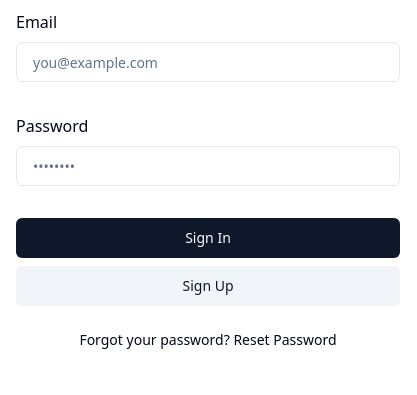
Test: LoginPageClient › tells new users to confirm email when signup creates identities but no session
This screenshot has width=417, height=395.
Step 1. Type "player@example.com" into the field labelled "Email" → (208, 62), box 16,42 -> 400,82
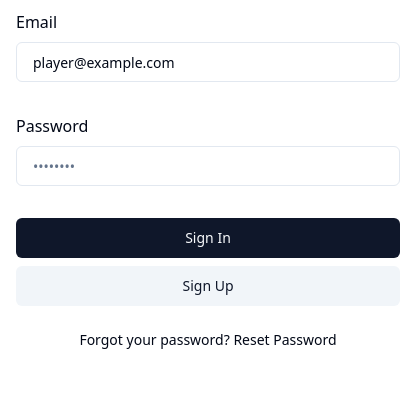
Step 2. Type "password123" into the password field labelled "Password" → (208, 166), box 16,146 -> 400,186
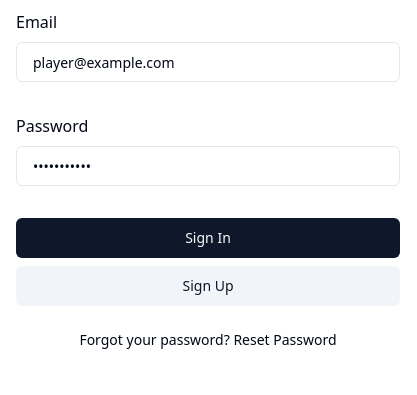
Step 3. Click the button "Sign Up" → (208, 286), box 16,266 -> 400,306
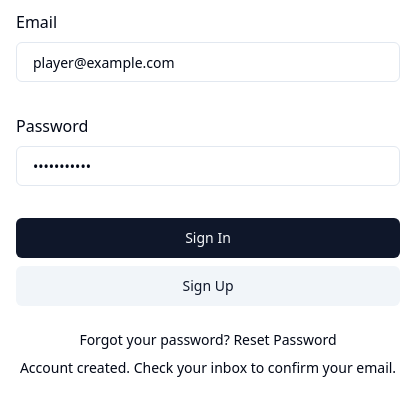
Expected: the text "Account created. Check your inbox to confirm your email." is shown, 16,358 -> 400,378
